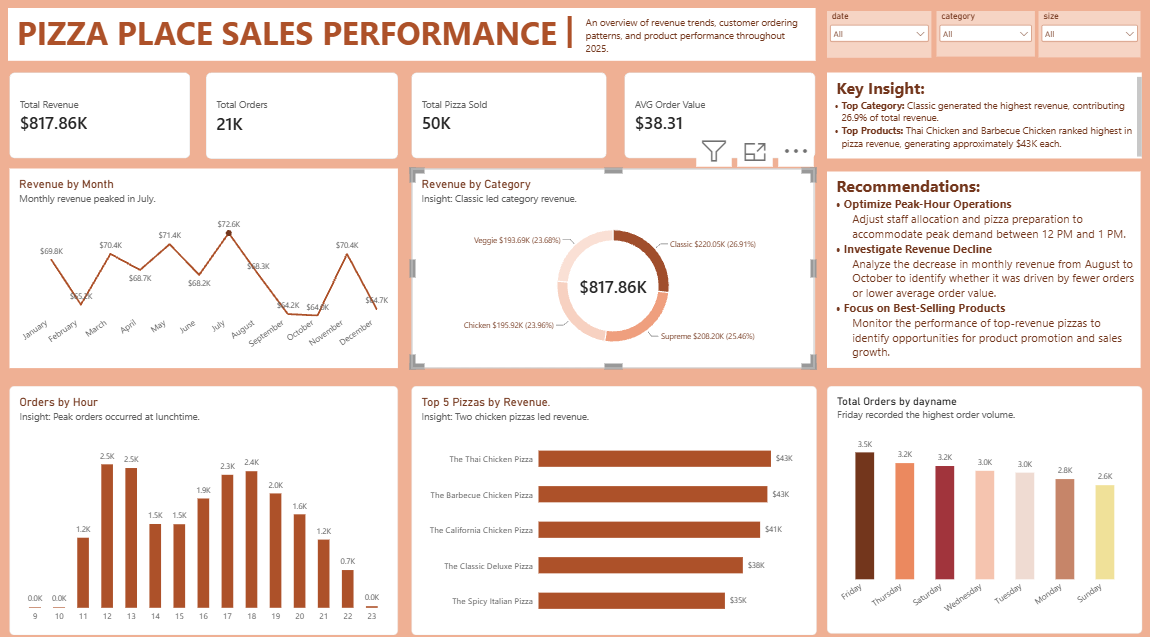

This screenshot's page, from the dashboard's own definition file:
{"tool":"powerbi","page":{"name":"Page 1","canvas":[1920,1080],"ordinal":0},"visuals":[{"type":"cardVisual","fields":{"Data":["order_details_clean.Total Revenue"]},"box":[16.7,121.7,301.7,143.3],"z":0},{"type":"cardVisual","fields":{"Data":["order_details_clean.Total Orders"]},"box":[344,122,320,144],"z":1000},{"type":"cardVisual","fields":{"Data":["order_details_clean.Total Pizza Sold"]},"box":[688.3,121.7,325,143.3],"z":2000},{"type":"cardVisual","fields":{"Data":["order_details_clean.AVG Order Value"]},"box":[1043.3,121.7,318.3,143.3],"z":3000},{"type":"lineChart","title":"Revenue by Month","fields":{"Category":["orders_clean.date.Variation.Date Hierarchy.Month"],"Y":["order_details_clean.Total Revenue"]},"box":[17.5,282.5,647.5,332.5],"z":4000},{"type":"clusteredColumnChart","title":" Orders by Hour","fields":{"Category":["orders_clean.order_hour"],"Y":["order_details_clean.Total Orders"]},"box":[17.5,645,647.5,415],"z":5000},{"type":"donutChart","title":"Revenue by Category","fields":{"Category":["pizza_types_clean.category"],"Y":["order_details_clean.Total Revenue"]},"box":[687.5,282.5,672.5,332.5],"z":6000},{"type":"textbox","box":[15.6,14,1346,88],"z":7000},{"type":"clusteredBarChart","title":"Top 5 Pizzas by Revenue.","fields":{"Category":["pizza_types_clean.name"],"Y":["order_details_clean.Total Revenue"]},"box":[687.5,645,675,415],"z":8000},{"type":"slicer","fields":{"Values":["pizza_types_clean.category"]},"box":[1563.2,19.3,163.8,76.2],"z":9000},{"type":"slicer","fields":{"Values":["pizzas_clean.size"]},"box":[1733.3,19.6,170,77.5],"z":10000},{"type":"slicer","fields":{"Values":["orders_clean.date"]},"box":[1380.7,19.3,174,78],"z":11000},{"type":"textbox","box":[29.6,20,904,74],"z":12000},{"type":"textbox","box":[942.7,12.9,34.3,81.4],"z":13000},{"type":"clusteredColumnChart","fields":{"Category":["orders_clean.dayname"],"Y":["order_details_clean.Total Orders"]},"box":[1380,645,525,412.5],"z":14000},{"type":"textbox","box":[977.1,27.1,362.9,75.7],"z":15000},{"type":"textbox","box":[1380,287.5,522.5,327.5],"z":16000},{"type":"textbox","box":[1380,111.7,523.3,163.3],"z":16001}]}

Visuals, with their boxes in screenshot pixels (x1, y1, x2, y2), scaled from the page's 1920x1080 canvas onto the 1150x637 screenshot:
cardVisual - order_details_clean.Total Revenue: bbox=(10, 72, 191, 156)
cardVisual - order_details_clean.Total Orders: bbox=(206, 72, 398, 157)
cardVisual - order_details_clean.Total Pizza Sold: bbox=(412, 72, 607, 156)
cardVisual - order_details_clean.AVG Order Value: bbox=(625, 72, 816, 156)
"Revenue by Month" lineChart: bbox=(10, 167, 398, 363)
" Orders by Hour" clusteredColumnChart: bbox=(10, 380, 398, 625)
"Revenue by Category" donutChart: bbox=(412, 167, 815, 363)
textbox: bbox=(9, 8, 816, 60)
"Top 5 Pizzas by Revenue." clusteredBarChart: bbox=(412, 380, 816, 625)
slicer - pizza_types_clean.category: bbox=(936, 11, 1034, 56)
slicer - pizzas_clean.size: bbox=(1038, 12, 1140, 57)
slicer - orders_clean.date: bbox=(827, 11, 931, 57)
textbox: bbox=(18, 12, 559, 55)
textbox: bbox=(565, 8, 585, 56)
clusteredColumnChart - orders_clean.dayname x order_details_clean.Total Orders: bbox=(827, 380, 1141, 624)
textbox: bbox=(585, 16, 803, 61)
textbox: bbox=(827, 170, 1140, 363)
textbox: bbox=(827, 66, 1140, 162)
